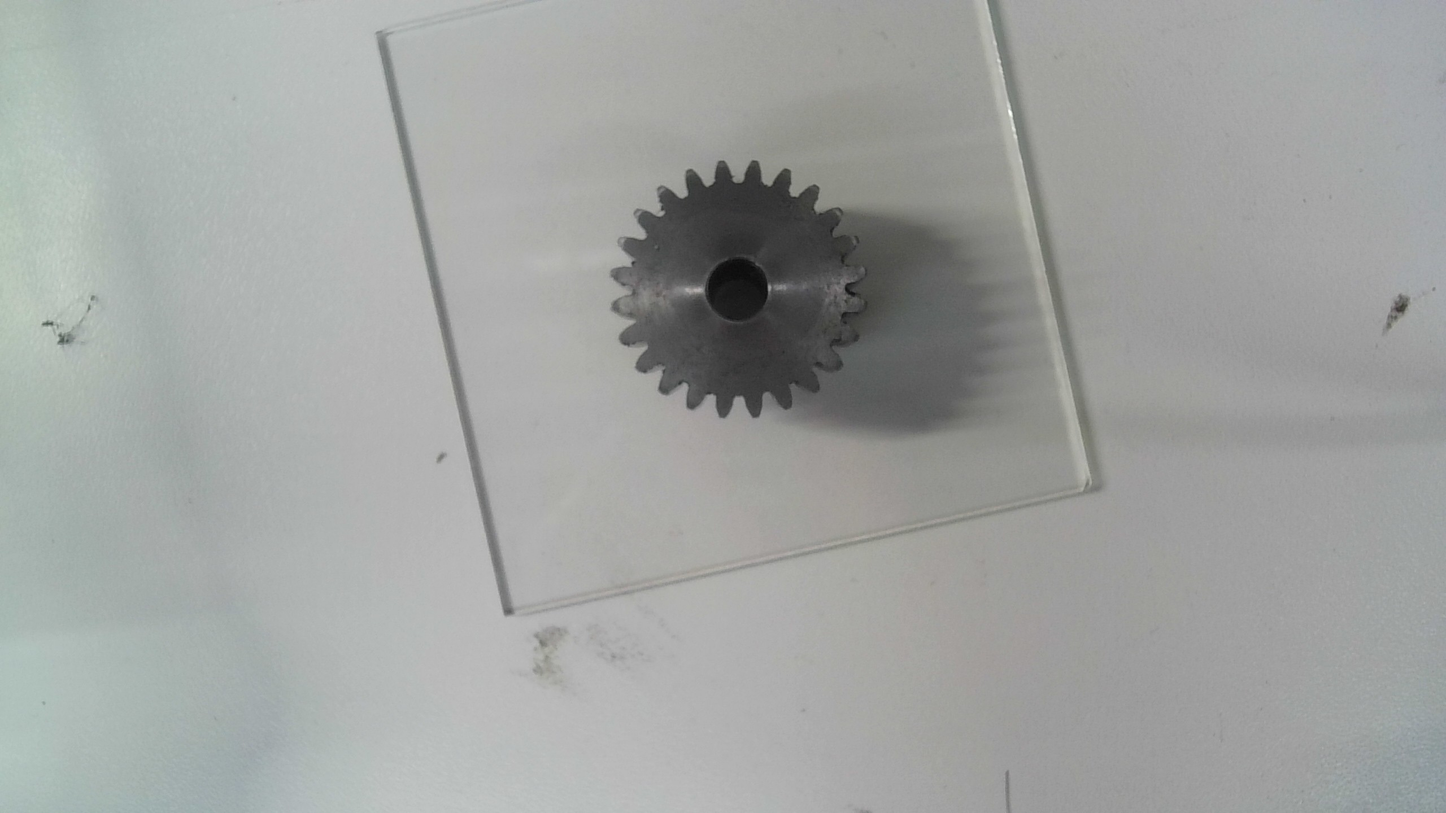gear: (605, 158, 871, 421)
